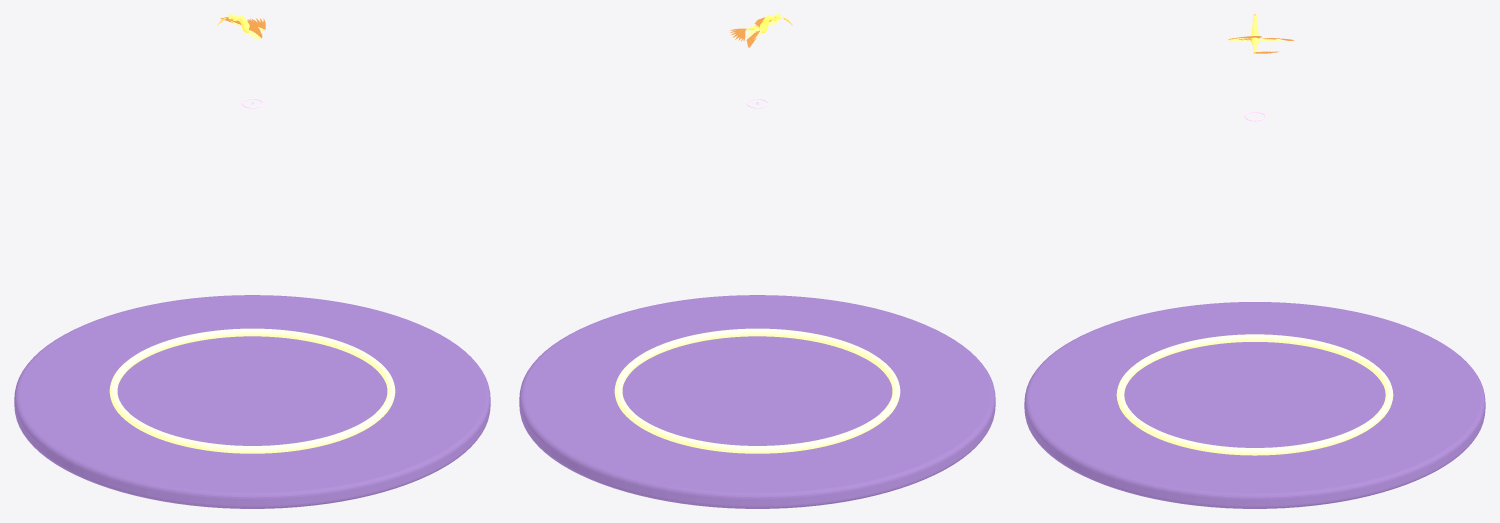
The model's file is model_mobile_lod.glb.
The picture shows the model from 3 angles, left to right: view 1: azimuth 30°, elevation 25°; view 2: azimuth 150°, elevation 25°; view 3: azimuth 270°, elevation 25°; orthographic projection. The views are drawn at different scales.
Parts seen in each view (by area): view 1: RitualPlatform, SigilRing; view 2: RitualPlatform, SigilRing; view 3: RitualPlatform, SigilRing.
Boxes of the visible parts, x1,y1,x2,y2 form: RitualPlatform: (14,295,490,508); SigilRing: (109,328,395,453); RitualPlatform: (519,295,995,508); SigilRing: (614,328,900,453); RitualPlatform: (1024,302,1485,508); SigilRing: (1116,334,1393,455).
Bounding box in the file's own units: 6 × 5.57 × 6.
